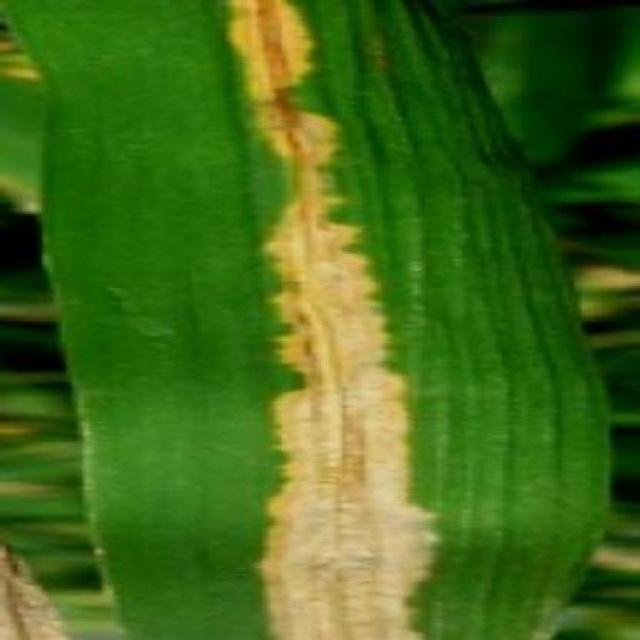Brown_Spot: (68, 0, 574, 637), (0, 495, 82, 639)
